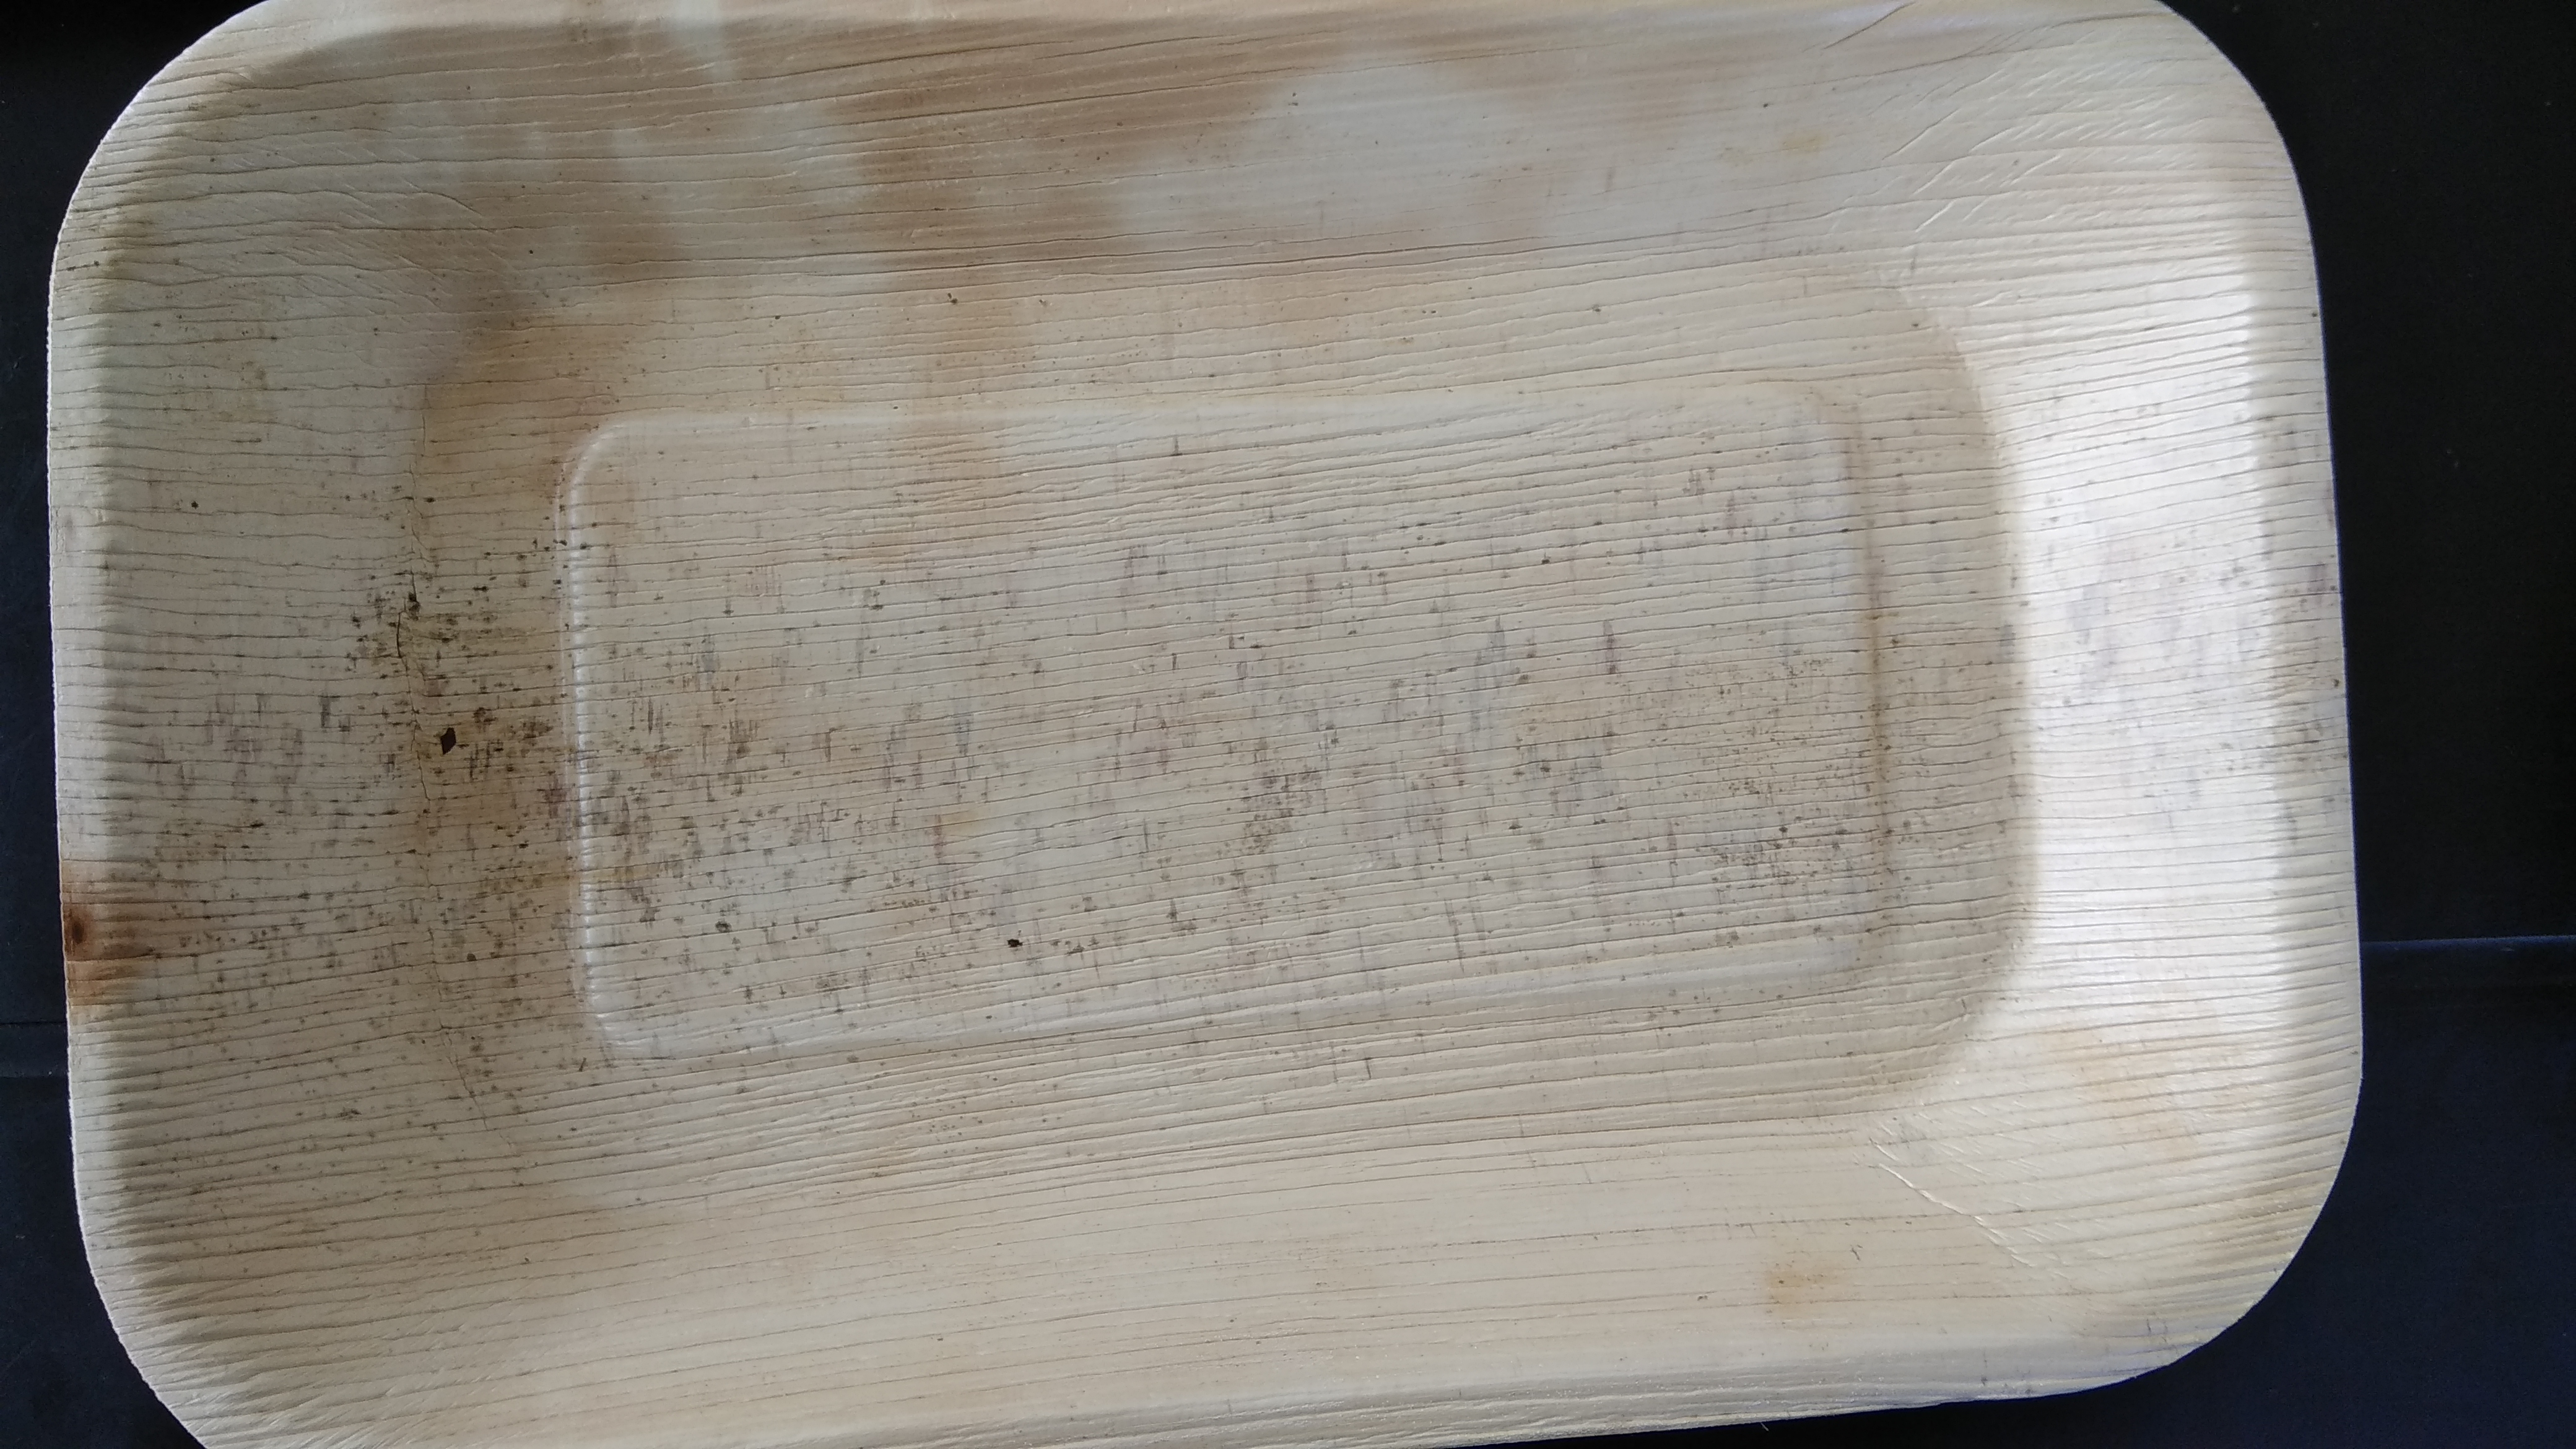areca plate: (53, 51, 2353, 1380)
